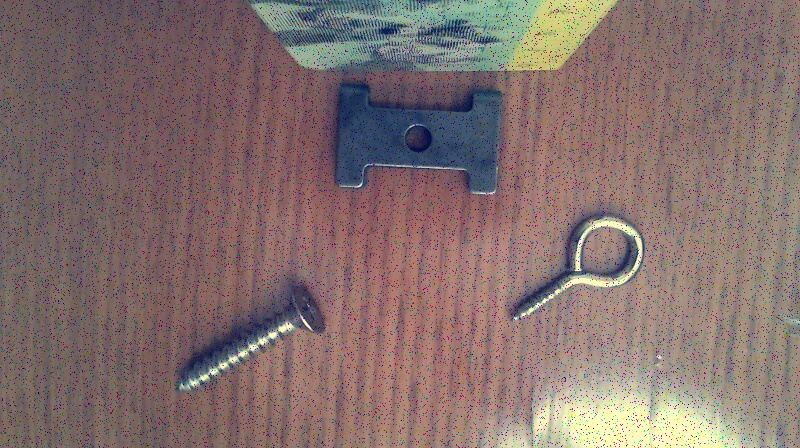O001: (504, 210, 648, 330)
O002: (331, 84, 507, 198)
S001: (167, 281, 332, 397)
